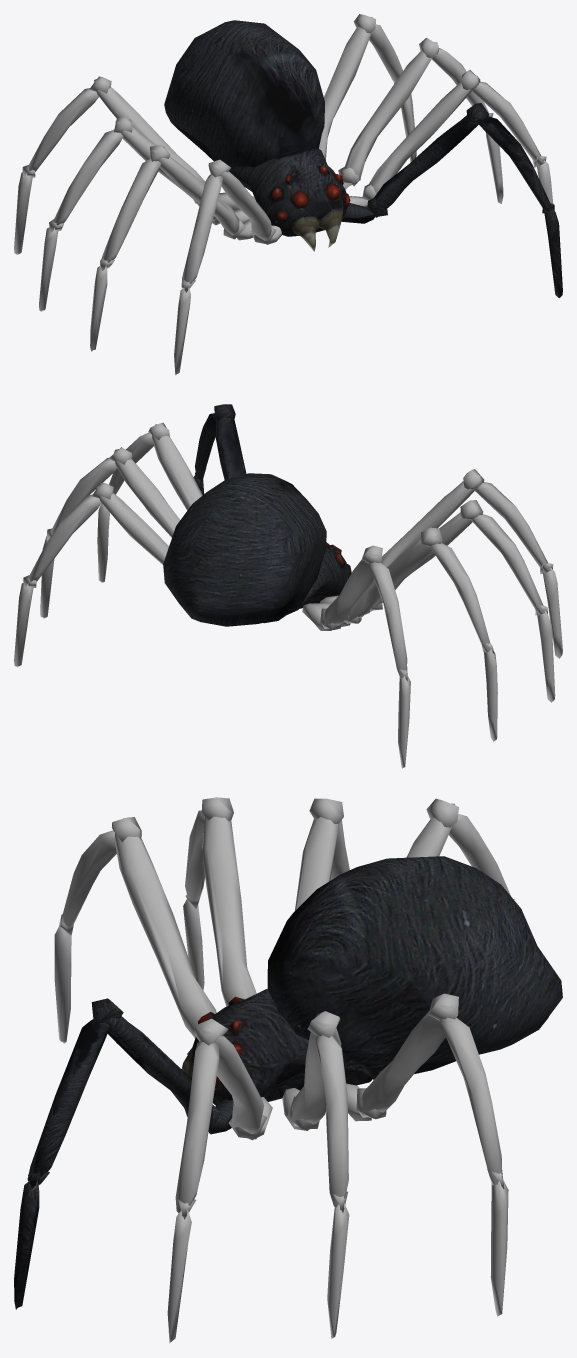
File: spider.fbx
3 views of the same model, one above another, from view 1: azimuth 30°, elevation 25°; view 2: azimuth 150°, elevation 25°; view 3: azimuth 270°, elevation 25° (orthographic). The views are drawn at different scales.
Visible parts, largest first — view 1: Mesh, Mesh_004, Mesh_007, Mesh_001, Mesh_006, Mesh_002, Mesh_005, Mesh_008, Mesh_003; view 2: Mesh, Mesh_005, Mesh_008, Mesh_006, Mesh_003, Mesh_007, Mesh_002, Mesh_001, Mesh_004; view 3: Mesh, Mesh_006, Mesh_003, Mesh_004, Mesh_001, Mesh_007, Mesh_002, Mesh_008, Mesh_005.
Boxes of the visible parts, x1,y1,x2,y2 form: Mesh: (164,20,350,251); Mesh_004: (341,103,562,298); Mesh_007: (90,145,253,351); Mesh_001: (349,70,553,206); Mesh_006: (174,159,281,375); Mesh_002: (338,38,503,203); Mesh_005: (14,76,255,254); Mesh_008: (39,117,249,311); Mesh_003: (319,14,416,162); Mesh: (163,473,351,626); Mesh_005: (302,545,410,768); Mesh_008: (313,527,497,741); Mesh_006: (381,469,562,658); Mesh_003: (14,482,168,667); Mesh_007: (320,500,555,702); Mesh_002: (40,447,180,618); Mesh_001: (97,422,202,582); Mesh_004: (193,404,246,494); Mesh: (181,856,562,1105); Mesh_006: (54,817,216,1043); Mesh_003: (346,993,508,1316); Mesh_004: (14,998,233,1309); Mesh_001: (167,1018,272,1343); Mesh_007: (183,797,256,1006); Mesh_002: (282,1011,349,1338); Mesh_008: (295,798,349,910); Mesh_005: (406,798,514,899).
Bounding box in the file's own units: 6.53 × 2.92 × 4.56.
